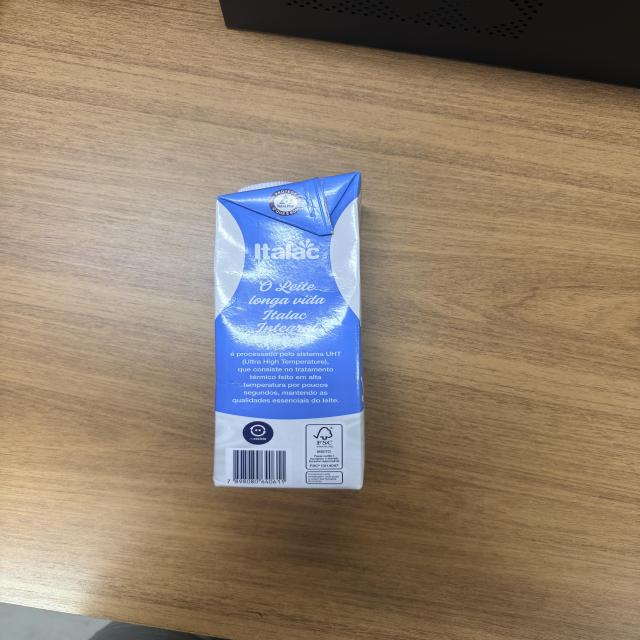Caixa de Leite: (212, 175, 366, 492)
